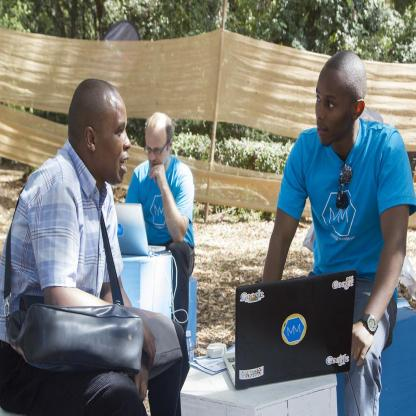board: (224, 268, 356, 390), (115, 204, 167, 256)
